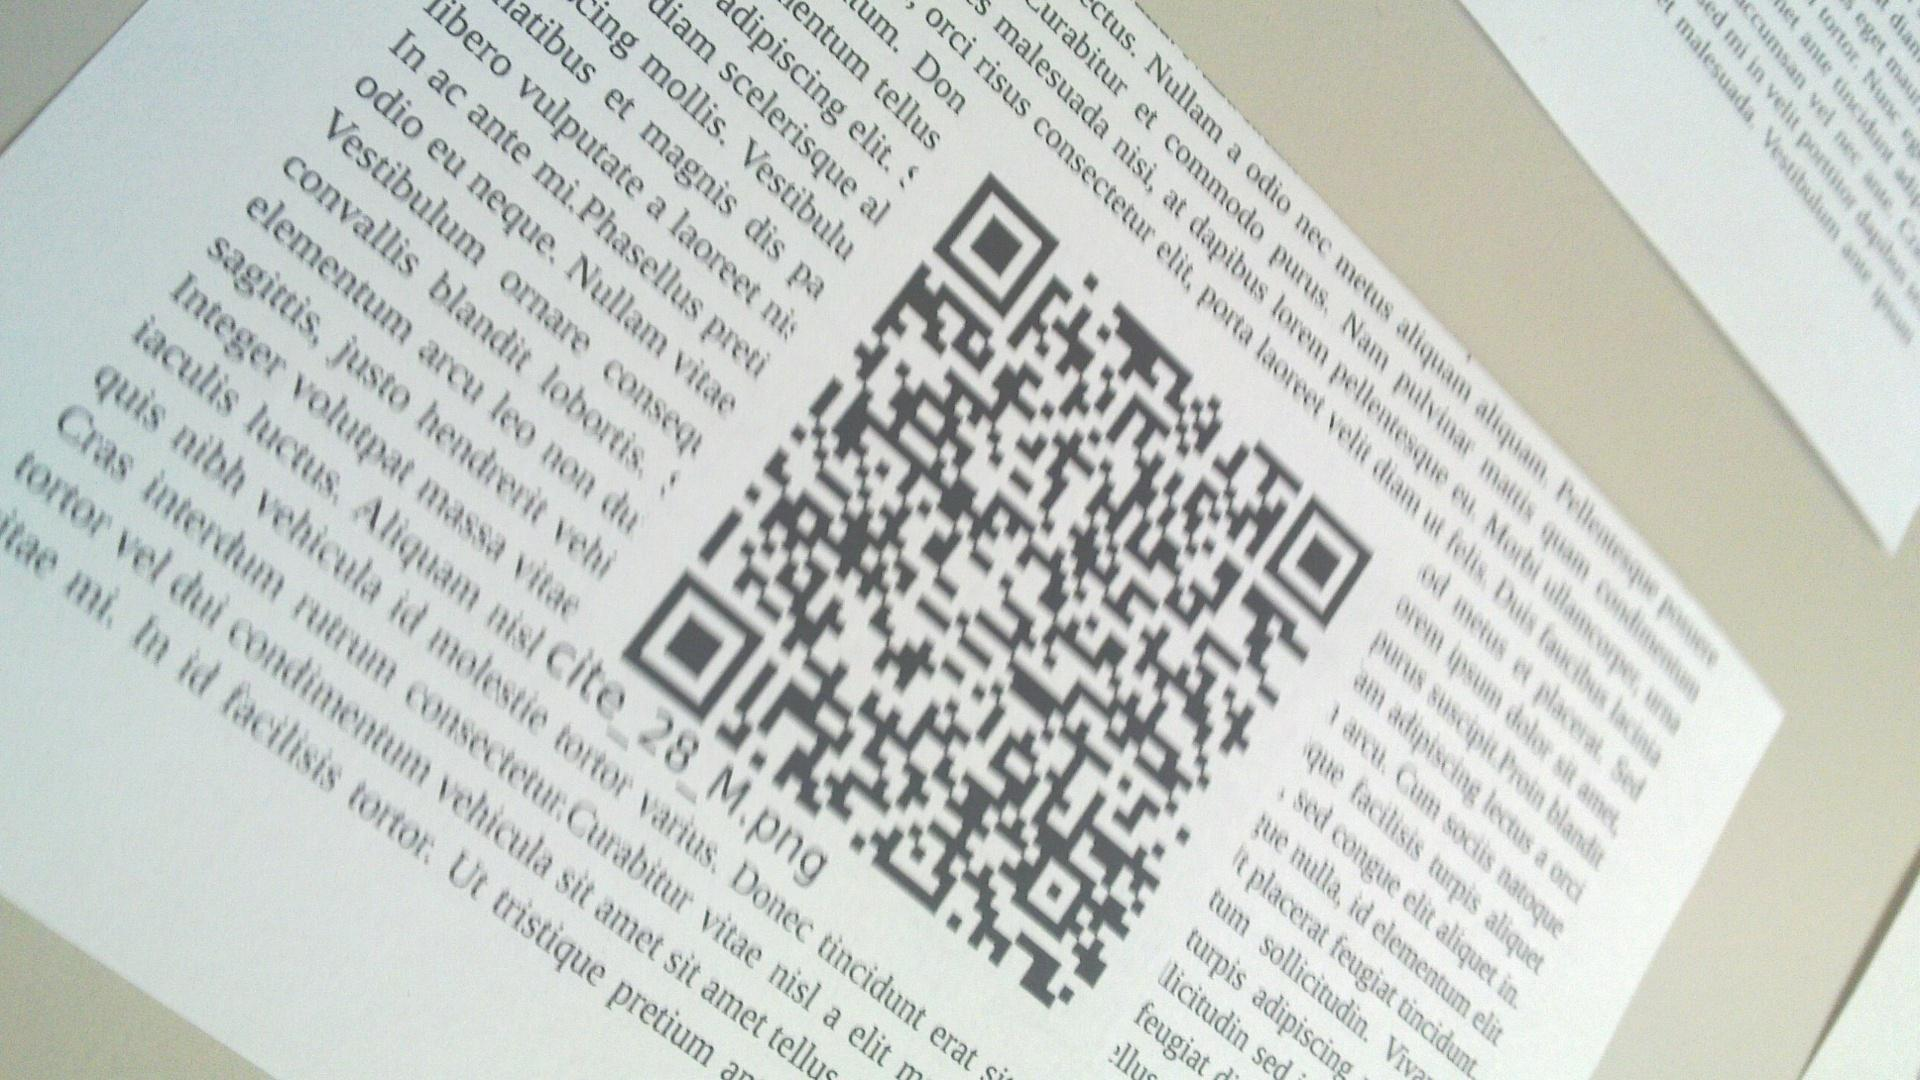Finder pattern: (621, 570, 765, 725), (934, 167, 1063, 316), (1261, 491, 1371, 628)
